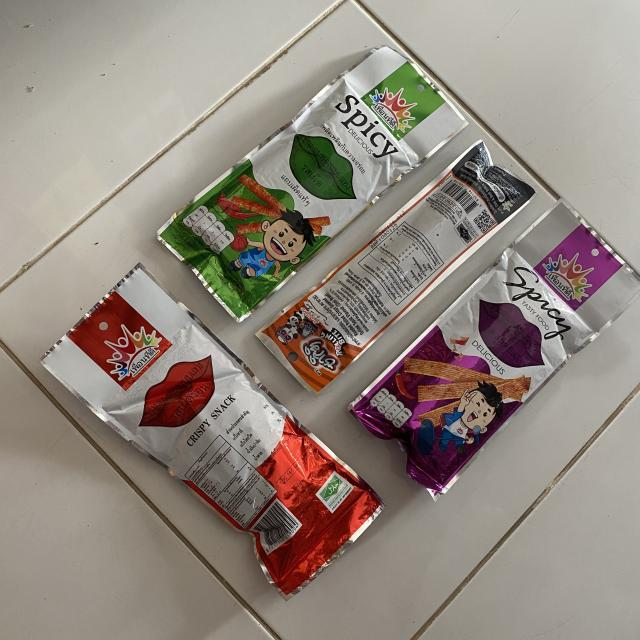plastik: (41, 265, 384, 595), (350, 199, 640, 499), (158, 46, 468, 320), (258, 141, 535, 394)
